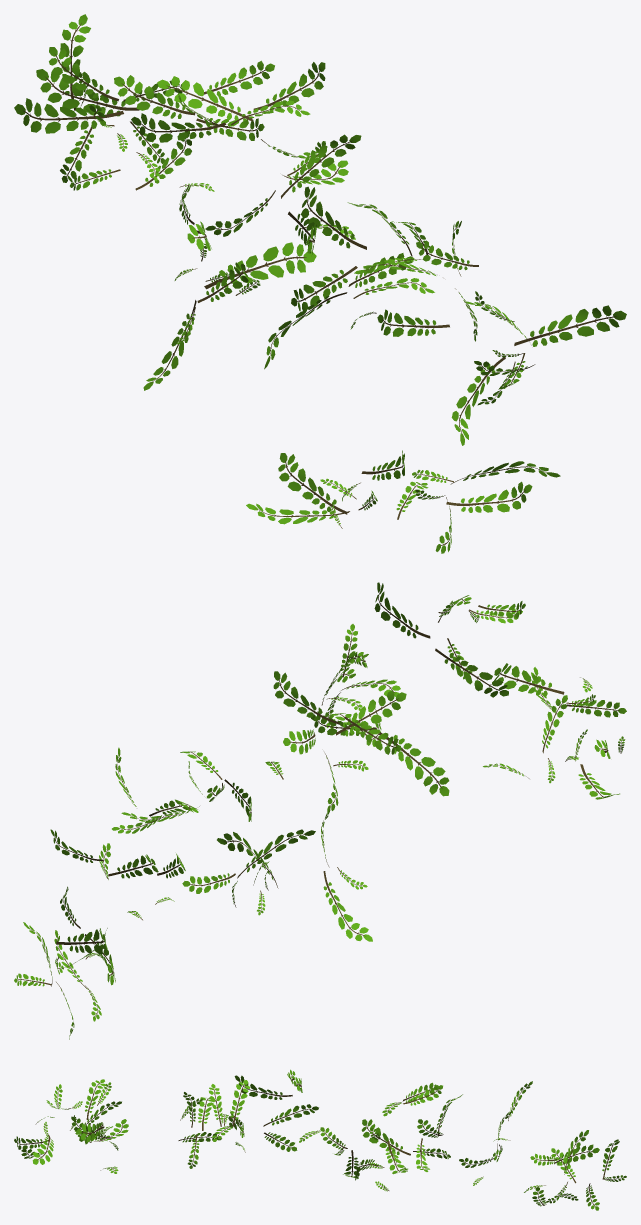
File: treetop.FBX
3 views of the same model, one above another, from view 1: azimuth 30°, elevation 25°; view 2: azimuth 150°, elevation 25°; view 3: azimuth 270°, elevation 25° (orthographic). The views are drawn at different scales.
Visible parts, largest first — view 1: Plane054; view 2: Plane054; view 3: Plane054.
Boxes of the visible parts, <box> form: Plane054: <box>14,14,626,553</box>; Plane054: <box>14,582,626,1039</box>; Plane054: <box>14,1069,626,1210</box>.
Size of the model in its own units: 230 by 155 by 608.
